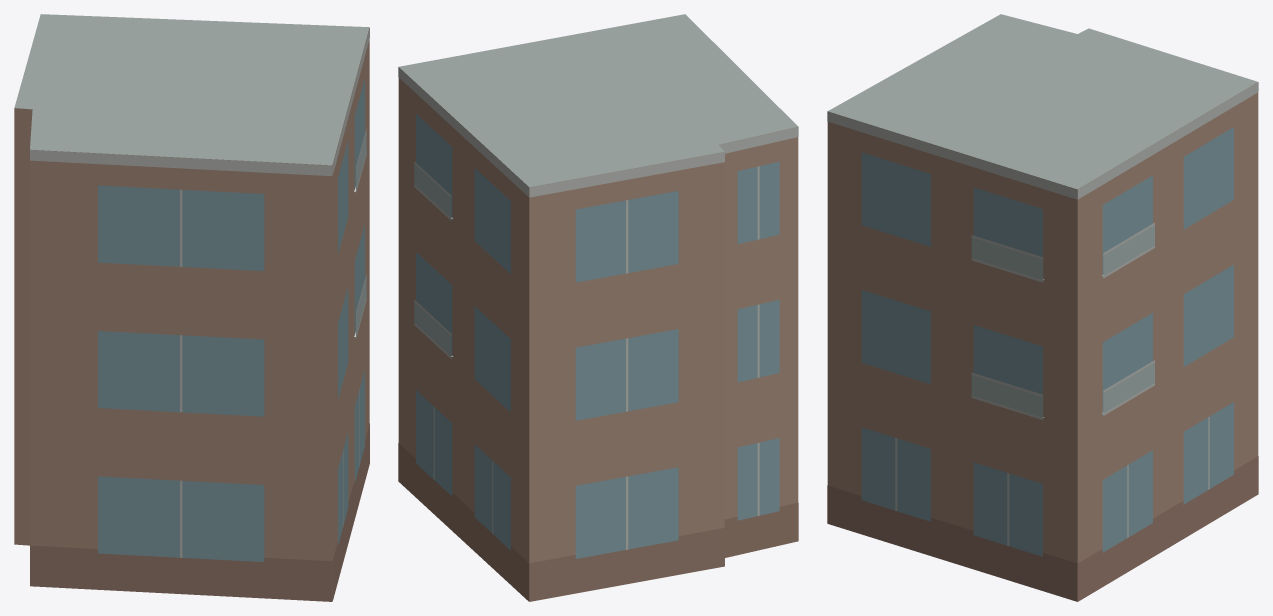
Rendered from survey-upis-32493575.glb.
3 renders of one model, left to right at view 1: azimuth 30°, elevation 25°; view 2: azimuth 150°, elevation 25°; view 3: azimuth 270°, elevation 25°, orthographic. The views are drawn at different scales.
Visible parts, largest first — view 1: survey-upis-32493575.tmp; view 2: survey-upis-32493575.tmp; view 3: survey-upis-32493575.tmp.
Boxes of the visible parts, <box> form: survey-upis-32493575.tmp: <box>14,14,369,601</box>; survey-upis-32493575.tmp: <box>398,14,798,601</box>; survey-upis-32493575.tmp: <box>827,14,1258,601</box>.
Size of the model in its own units: 8.95 by 9.8 by 9.29.
